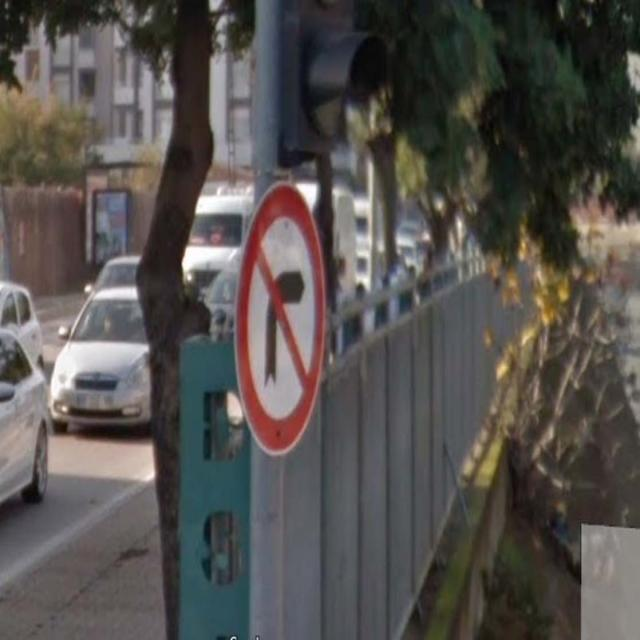sagadonulmez: (234, 180, 326, 456)
